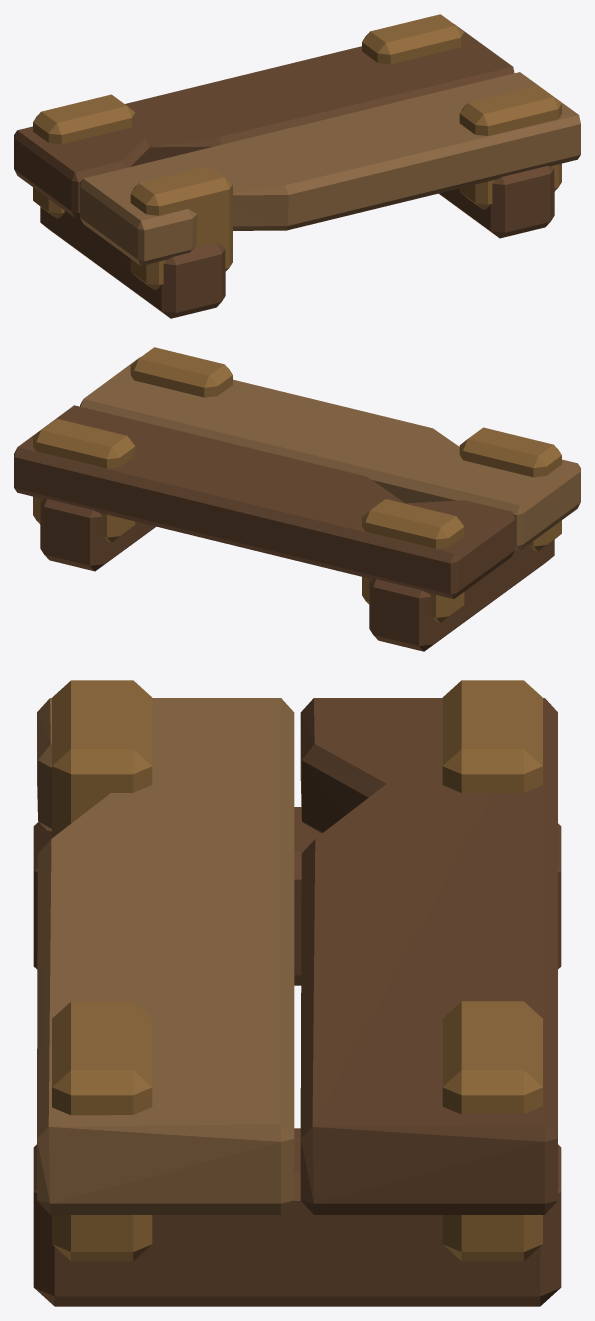
File: VAULT_TIMBER_BRIDGE_050.lo.glb
3 renders of one model, top to bottom at view 1: azimuth 30°, elevation 25°; view 2: azimuth 150°, elevation 25°; view 3: azimuth 270°, elevation 25°, orthographic. The views are drawn at different scales.
Visible parts, largest first — view 1: Body_Mesh; view 2: Body_Mesh; view 3: Body_Mesh.
Boxes of the visible parts, box(x1,y1,x2,y2) form: Body_Mesh: box(14, 14, 580, 318); Body_Mesh: box(14, 347, 580, 651); Body_Mesh: box(33, 680, 561, 1306).
Bounding box in the file's own units: 0.97 × 0.26 × 0.5.
